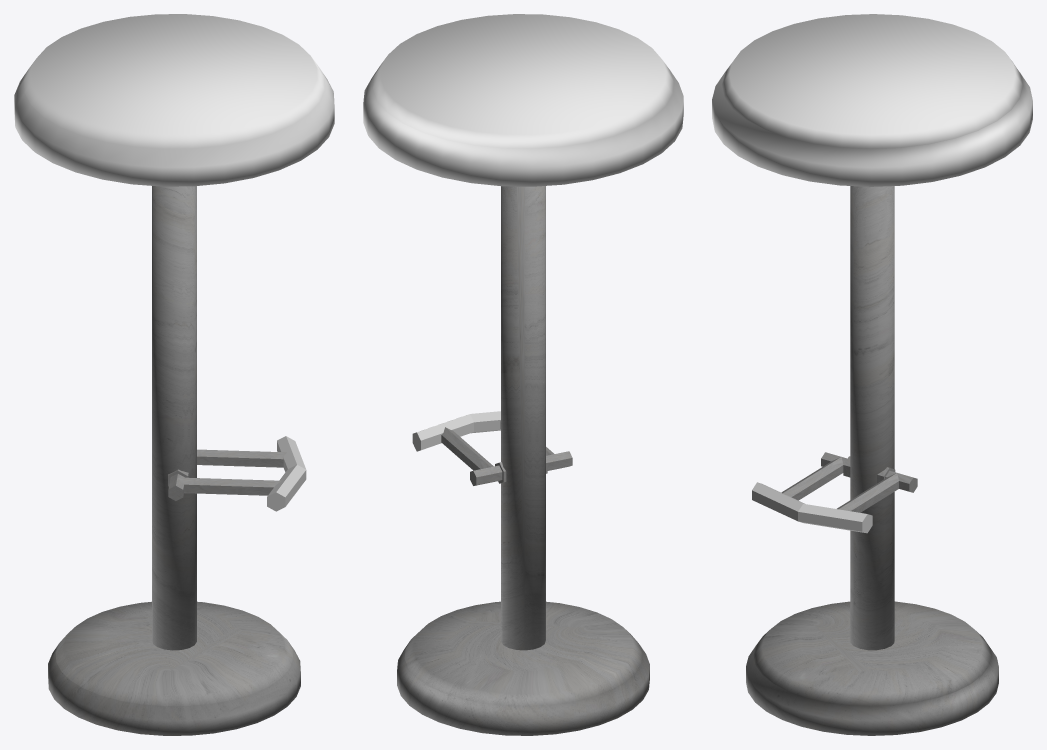
Rendered from Stool.fbx.
3 views of the same model, side by side, from view 1: azimuth 30°, elevation 25°; view 2: azimuth 150°, elevation 25°; view 3: azimuth 270°, elevation 25° (orthographic).
Visible parts, largest first — view 1: Cylinder; view 2: Cylinder; view 3: Cylinder.
Boxes of the visible parts, box(x1,y1,x2,y2) form: Cylinder: box(14, 14, 334, 735); Cylinder: box(363, 14, 683, 735); Cylinder: box(712, 14, 1032, 735).
Size of the model in its own units: 60.02 by 126 by 60.02.
